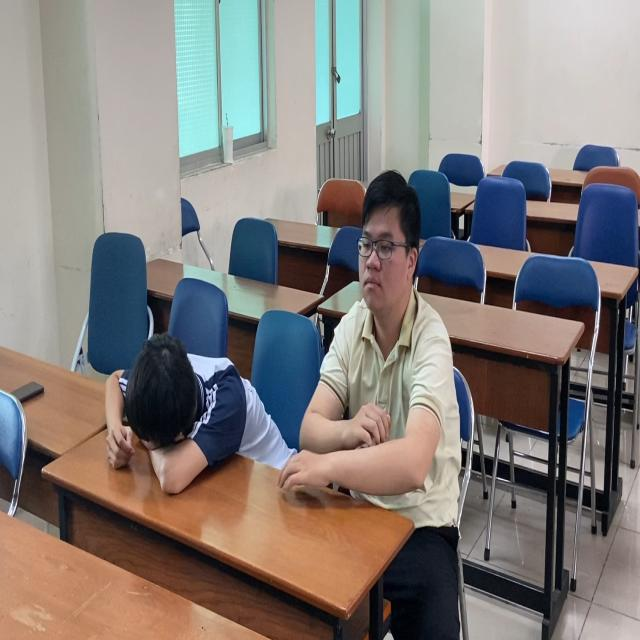sleep: (87, 334, 288, 488)
